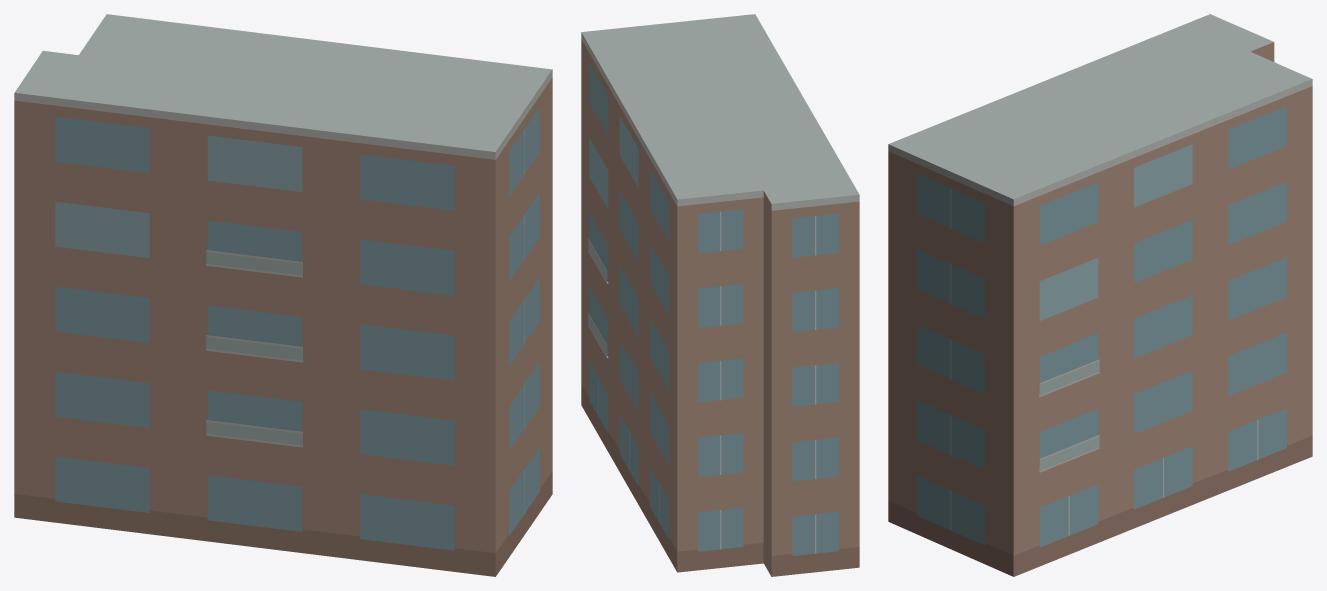
Rendered from survey-upis-32685043.glb.
3 renders of one model, left to right at view 1: azimuth 30°, elevation 25°; view 2: azimuth 150°, elevation 25°; view 3: azimuth 270°, elevation 25°, orthographic. The views are drawn at different scales.
Visible parts, largest first — view 1: survey-upis-32685043.tmp; view 2: survey-upis-32685043.tmp; view 3: survey-upis-32685043.tmp.
Boxes of the visible parts, <box> form: survey-upis-32685043.tmp: <box>14,14,552,576</box>; survey-upis-32685043.tmp: <box>581,14,859,576</box>; survey-upis-32685043.tmp: <box>888,14,1312,576</box>.
Bounding box in the file's own units: 14.02 × 13.3 × 13.56.
